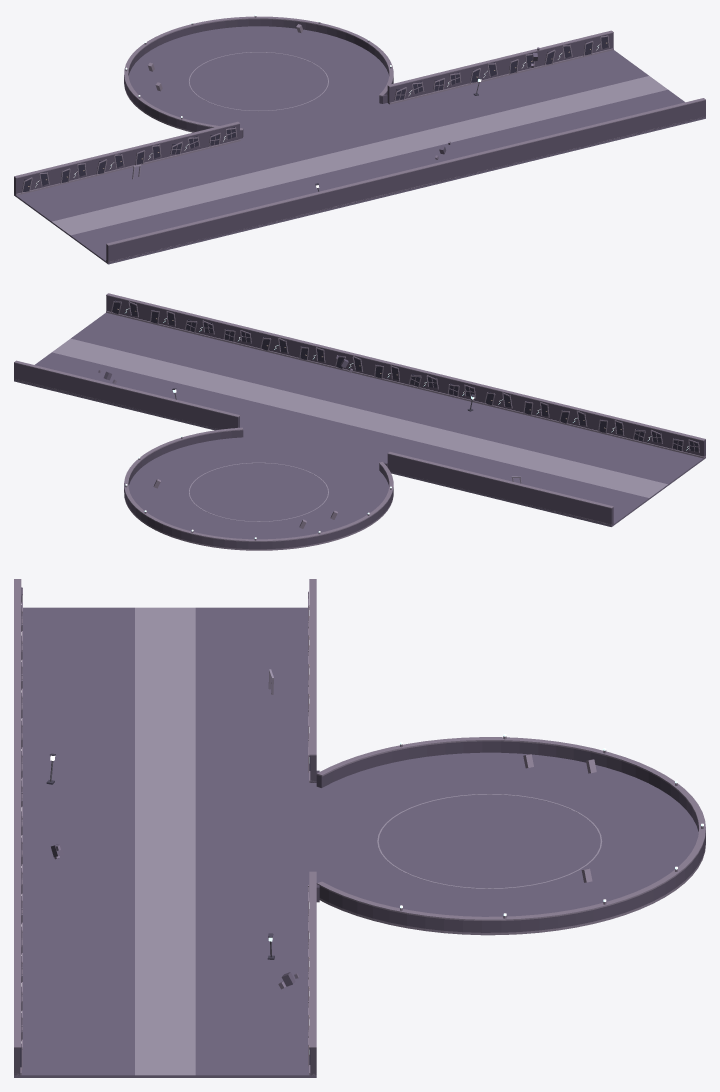
The model's file is rift.glb.
3 views of the same model, one above another, from view 1: azimuth 30°, elevation 25°; view 2: azimuth 150°, elevation 25°; view 3: azimuth 270°, elevation 25° (orthographic). The views are drawn at different scales.
Visible parts, largest first — view 1: IR_Floor64 (×8), IR_Arena, IR_WallA (×9), IR_WallB (×5); view 2: IR_Floor64 (×8), IR_Arena, IR_WallA (×9), IR_WallB (×5); view 3: IR_Floor64 (×8), IR_Arena, IR_WallA (×2), IR_WallB.
Boxes of the visible parts, left/top/right/bottom form: IR_Floor64 (×8): left=14, top=50, right=705, bottom=264; IR_Arena: left=124, top=14, right=393, bottom=138; IR_WallA (×9): left=14, top=30, right=705, bottom=244; IR_WallB (×5): left=106, top=67, right=631, bottom=262; IR_Floor64 (×8): left=14, top=313, right=705, bottom=526; IR_Arena: left=124, top=427, right=393, bottom=550; IR_WallA (×9): left=14, top=293, right=630, bottom=525; IR_WallB (×5): left=163, top=311, right=705, bottom=489; IR_Floor64 (×8): left=14, top=607, right=316, bottom=1077; IR_Arena: left=316, top=734, right=705, bottom=935; IR_WallA (×2): left=14, top=988, right=316, bottom=1075; IR_WallB: left=308, top=696, right=316, bottom=782.
Size of the model in its own units: 512 by 21.45 by 320.
Materials: 3 (3 with a texture image).
